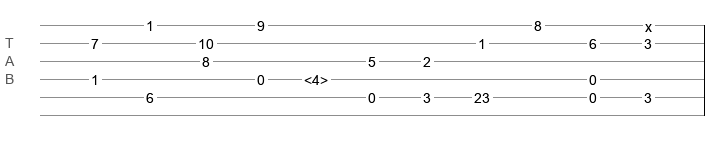0: (257, 72, 265, 82), (368, 90, 376, 100), (589, 90, 597, 100), (589, 72, 597, 82)
1: (91, 72, 99, 82), (146, 18, 154, 28), (478, 36, 486, 46)
10: (198, 36, 214, 46)
2: (423, 54, 431, 64)
23: (474, 90, 490, 100)
3: (423, 90, 431, 100), (644, 36, 652, 46), (644, 90, 652, 100)
5: (368, 54, 376, 64)
6: (146, 90, 154, 100), (589, 36, 597, 46)
7: (91, 36, 99, 46)
8: (202, 54, 210, 64), (534, 18, 542, 28)
9: (257, 18, 265, 28)
harmonic: (304, 72, 328, 82)
x: (645, 19, 652, 27)
